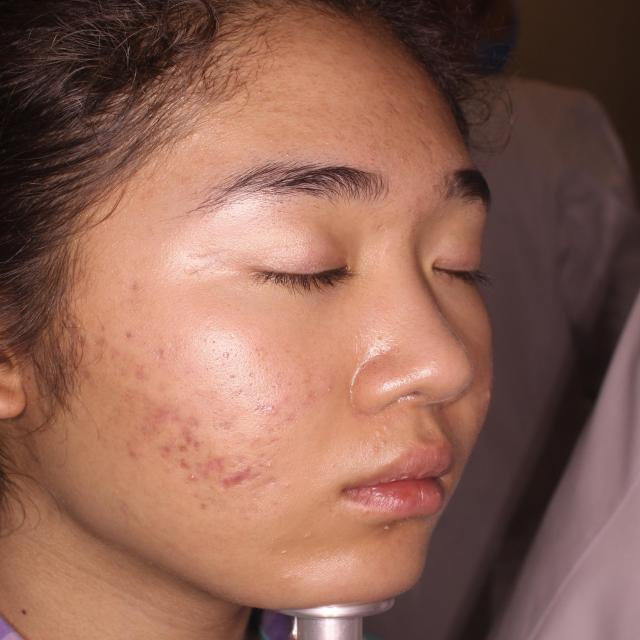pustule: (66, 324, 102, 354), (141, 401, 172, 427), (175, 422, 199, 451), (221, 466, 245, 491), (123, 437, 147, 459), (200, 451, 229, 468), (174, 454, 196, 474), (168, 456, 182, 468)
